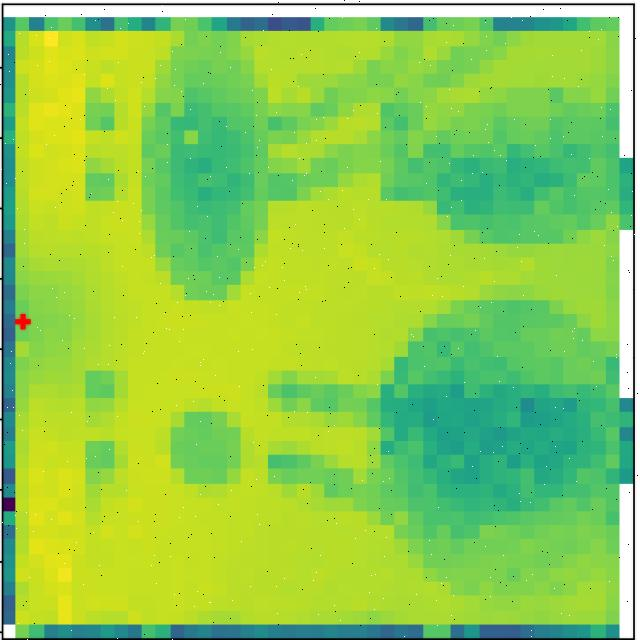Concrete: (151, 58, 255, 300)
Glass: (168, 410, 248, 488)
Metal: (381, 101, 591, 246)
Wood: (395, 362, 594, 520)
